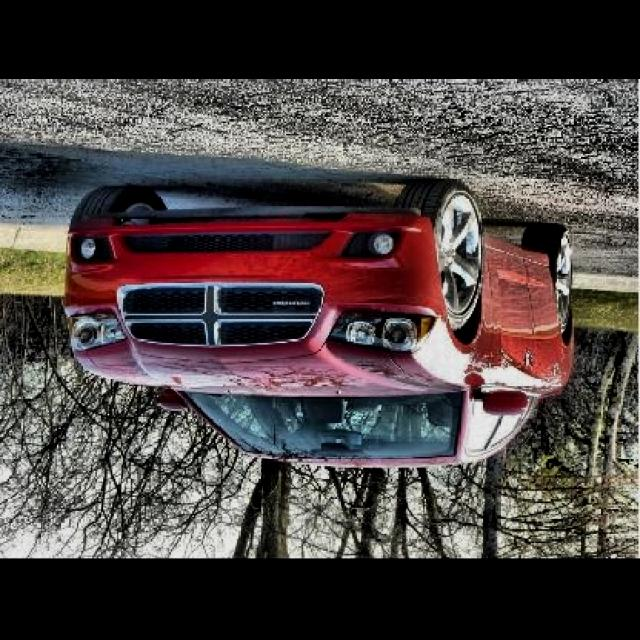maroon: (61, 194, 576, 468)
